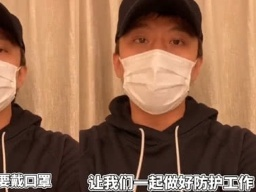correctlyWear: (112, 26, 201, 116), (1, 42, 28, 111)
